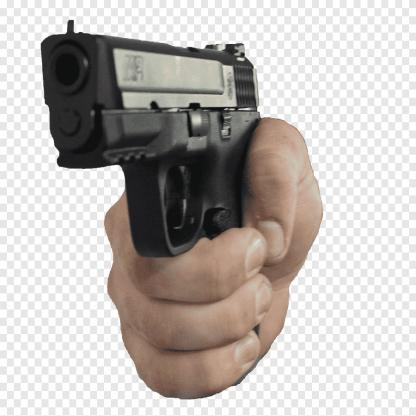handgun: (40, 14, 260, 258)
